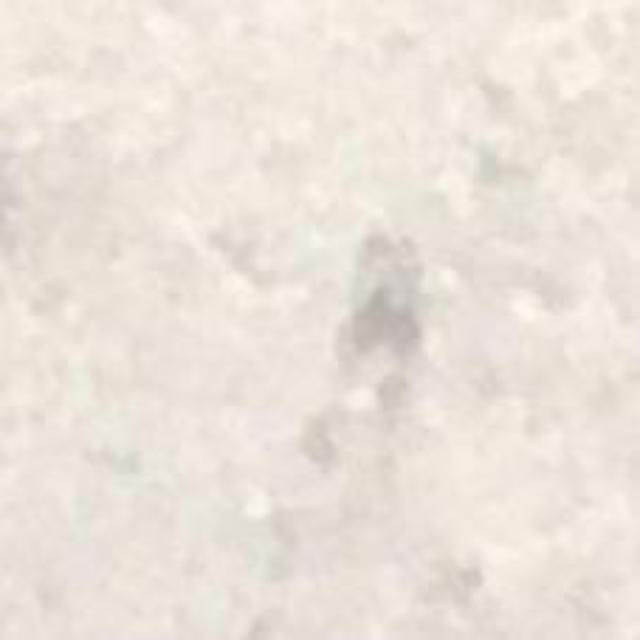peeling plaster: (336, 235, 425, 411)
